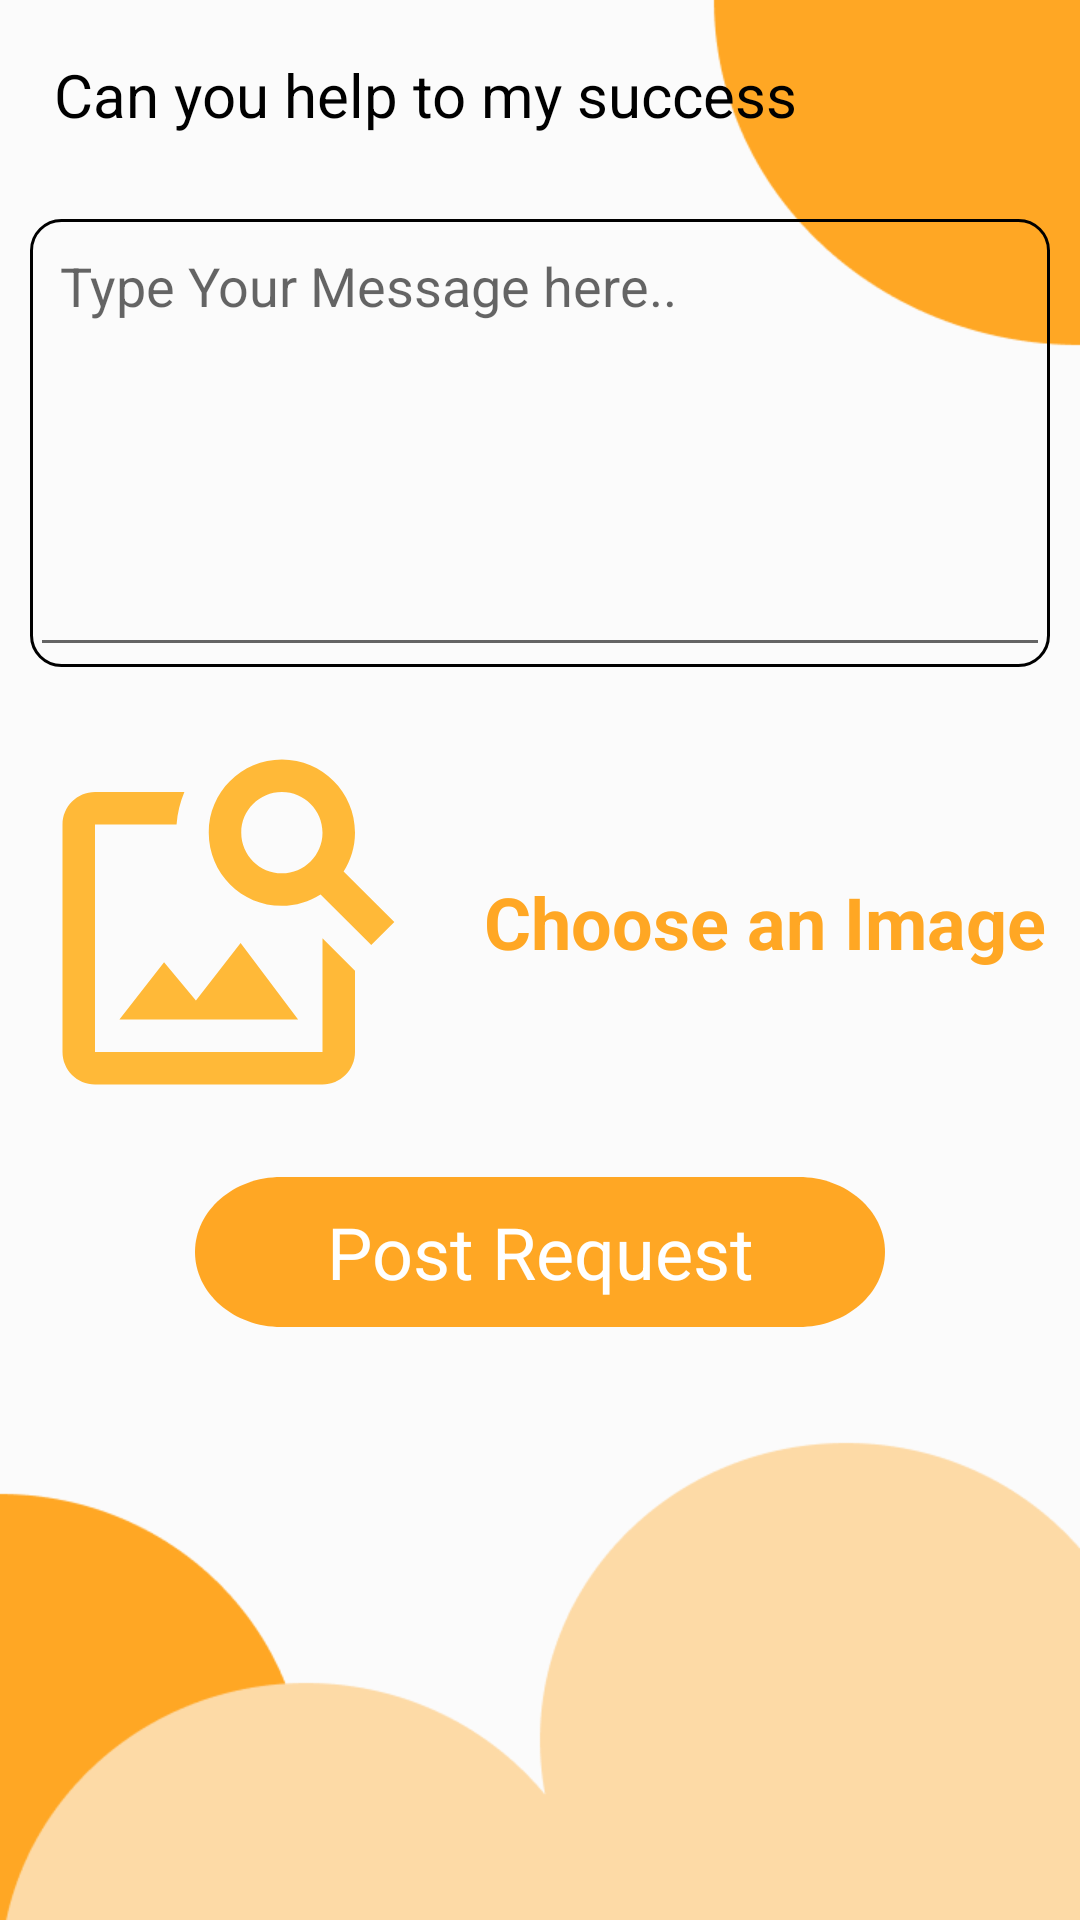

Named icons in this screenshot (1080x1920) and their centers, point (x, y):
search: point (228, 922)
